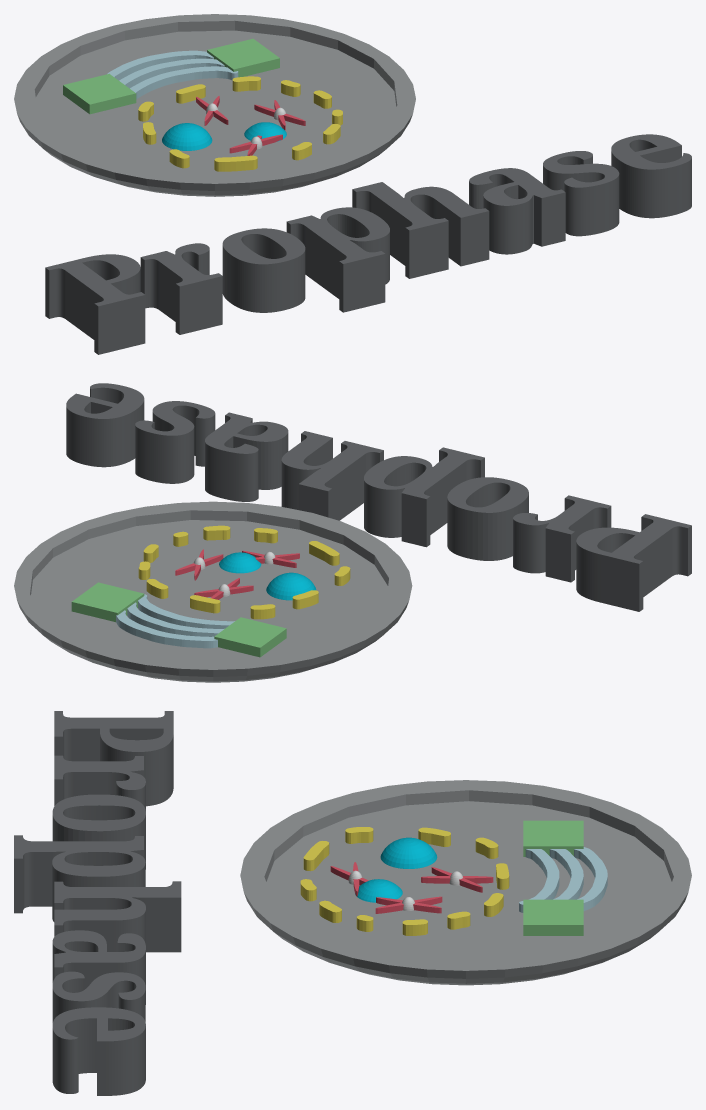
The model's file is Prophase.glb.
The picture shows the model from 3 angles, top to bottom: view 1: azimuth 30°, elevation 25°; view 2: azimuth 150°, elevation 25°; view 3: azimuth 270°, elevation 25°; orthographic projection. The views are drawn at different scales.
Visible parts, largest first — view 1: Mesh_Mesh_head_geo.001_lambert2SG.001; view 2: Mesh_Mesh_head_geo.001_lambert2SG.001; view 3: Mesh_Mesh_head_geo.001_lambert2SG.001.
Boxes of the visible parts, x1,y1,x2,y2 form: Mesh_Mesh_head_geo.001_lambert2SG.001: (14,14,691,354); Mesh_Mesh_head_geo.001_lambert2SG.001: (14,383,691,682); Mesh_Mesh_head_geo.001_lambert2SG.001: (14,711,691,1095).
Bounding box in the file's own units: 130 × 11 × 113.
